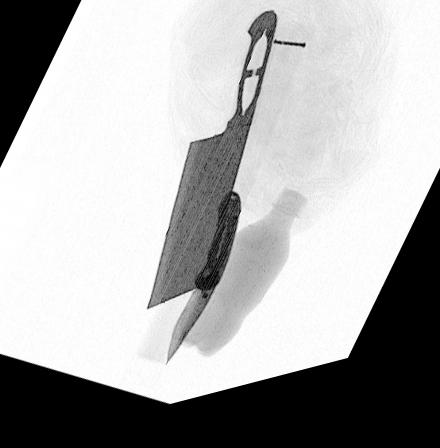Knife: (144, 23, 277, 317), (164, 201, 241, 374)
